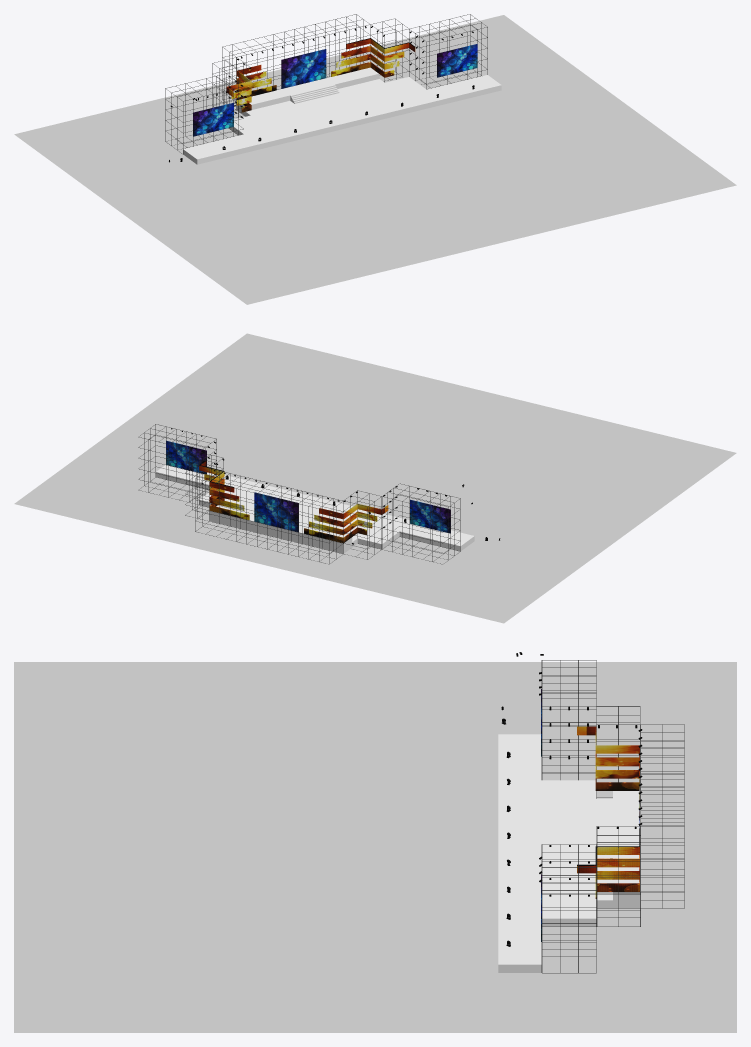
Rendered from hall.FBX.
3 views of the same model, one above another, from view 1: azimuth 30°, elevation 25°; view 2: azimuth 150°, elevation 25°; view 3: azimuth 270°, elevation 25° (orthographic). The views are drawn at different scales.
Parts seen in each view (by area): view 1: Obj3d66-673789-18-287, Obj3d66-673789-3-644, Obj3d66-673789-10-105, Obj3d66-673789-1-542, Obj3d66-673789-5-235, Obj3d66-673789-14-322, Obj3d66-673789-6-787, Obj3d66-673789-13-630, Obj3d66-673789-8-989, Obj3d66-673789-12-759, Obj3d66-673789-15-342, Obj3d66-673789-16-758 (+1 smaller); view 2: Obj3d66-673789-18-287, Obj3d66-673789-3-644, Obj3d66-673789-10-105, Obj3d66-673789-8-989, Obj3d66-673789-15-342, Obj3d66-673789-12-759, Obj3d66-673789-1-542, Obj3d66-673789-13-630, Obj3d66-673789-14-322, Obj3d66-673789-6-787, Obj3d66-673789-5-235, Obj3d66-673789-16-758 (+4 smaller); view 3: Obj3d66-673789-18-287, Obj3d66-673789-3-644, Obj3d66-673789-5-235, Obj3d66-673789-1-542, Obj3d66-673789-10-105, Obj3d66-673789-6-787, Obj3d66-673789-15-342, Obj3d66-673789-14-322, Obj3d66-673789-12-759, Obj3d66-673789-8-989, Obj3d66-673789-4-138, Obj3d66-673789-2-512 (+1 smaller).
Boxes of the visible parts, x1,y1,x2,y2 form: Obj3d66-673789-18-287: (14, 15, 736, 304); Obj3d66-673789-3-644: (236, 79, 416, 143); Obj3d66-673789-10-105: (222, 14, 370, 110); Obj3d66-673789-1-542: (183, 128, 282, 164); Obj3d66-673789-5-235: (403, 75, 501, 111); Obj3d66-673789-14-322: (331, 38, 415, 77); Obj3d66-673789-6-787: (239, 67, 379, 109); Obj3d66-673789-13-630: (281, 49, 326, 88); Obj3d66-673789-8-989: (165, 73, 243, 154); Obj3d66-673789-12-759: (409, 14, 487, 89); Obj3d66-673789-15-342: (226, 65, 276, 112); Obj3d66-673789-16-758: (193, 102, 233, 136); Obj3d66-673789-18-287: (14, 333, 736, 623); Obj3d66-673789-3-644: (209, 482, 388, 553); Obj3d66-673789-10-105: (195, 468, 343, 564); Obj3d66-673789-8-989: (382, 483, 460, 564); Obj3d66-673789-15-342: (304, 503, 388, 543); Obj3d66-673789-12-759: (138, 424, 216, 504); Obj3d66-673789-1-542: (375, 515, 474, 551); Obj3d66-673789-13-630: (254, 492, 298, 532); Obj3d66-673789-14-322: (199, 460, 249, 519); Obj3d66-673789-6-787: (209, 505, 352, 548); Obj3d66-673789-5-235: (156, 465, 254, 492); Obj3d66-673789-16-758: (410, 499, 450, 533); Obj3d66-673789-18-287: (14, 662, 736, 1032); Obj3d66-673789-3-644: (498, 798, 639, 908); Obj3d66-673789-5-235: (498, 900, 541, 972); Obj3d66-673789-1-542: (498, 734, 541, 798); Obj3d66-673789-10-105: (640, 724, 684, 908); Obj3d66-673789-6-787: (613, 791, 639, 900); Obj3d66-673789-15-342: (577, 726, 639, 820); Obj3d66-673789-14-322: (577, 828, 639, 898); Obj3d66-673789-12-759: (541, 844, 596, 973); Obj3d66-673789-8-989: (541, 660, 596, 780); Obj3d66-673789-4-138: (542, 900, 596, 926); Obj3d66-673789-2-512: (542, 780, 596, 798).
Size of the model in its own units: 3801 by 449 by 3131.
